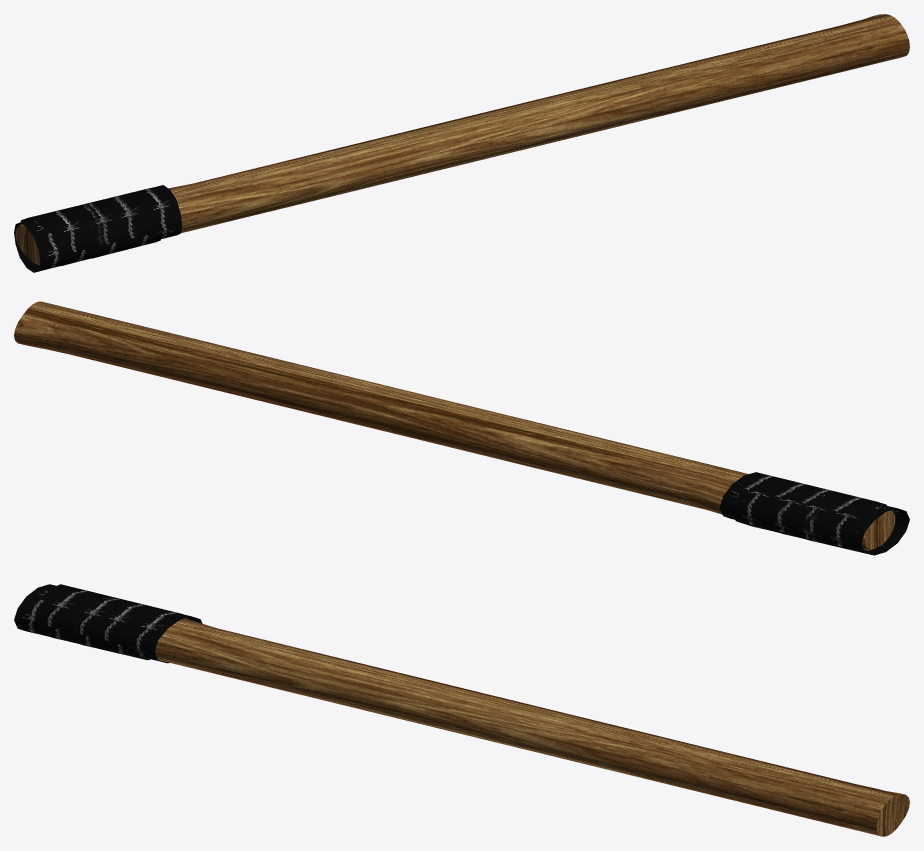
File: mangohachaespino.fbx
3 views of the same model, one above another, from view 1: azimuth 30°, elevation 25°; view 2: azimuth 150°, elevation 25°; view 3: azimuth 330°, elevation 25° (orthographic).
Visible parts, largest first — view 1: mangohacha_ESPINO, ESPINO02, ESPINO01, ESPINO03; view 2: mangohacha_ESPINO, ESPINO02, ESPINO01, ESPINO03; view 3: mangohacha_ESPINO, ESPINO02, ESPINO01, ESPINO03.
Boxes of the visible parts, bbox=[...] form: mangohacha_ESPINO: bbox=[15, 14, 909, 265]; ESPINO02: bbox=[14, 199, 123, 272]; ESPINO01: bbox=[86, 185, 182, 258]; ESPINO03: bbox=[57, 192, 151, 265]; mangohacha_ESPINO: bbox=[14, 301, 895, 550]; ESPINO02: bbox=[788, 487, 909, 555]; ESPINO01: bbox=[719, 472, 819, 536]; ESPINO03: bbox=[761, 483, 848, 543]; mangohacha_ESPINO: bbox=[155, 618, 909, 836]; ESPINO02: bbox=[14, 584, 131, 638]; ESPINO01: bbox=[70, 598, 202, 663]; ESPINO03: bbox=[40, 591, 148, 645].
Bounding box in the file's own units: 51.82 × 2.43 × 4.03.
